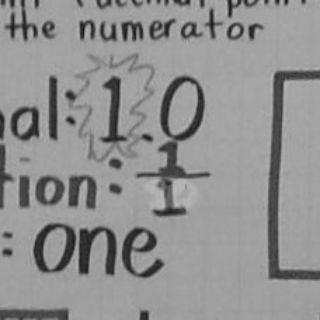.: (141, 129, 154, 144)
0: (159, 76, 210, 142)
1: (102, 76, 126, 144)
